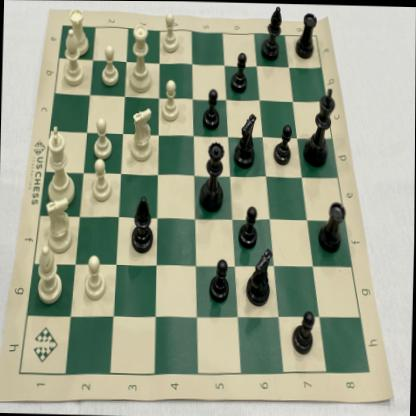black-bishop: (129, 194, 156, 257), (259, 5, 283, 64)
black-king: (303, 82, 339, 167)
black-knight: (245, 240, 275, 310), (231, 109, 258, 171)
black-pawn: (290, 308, 316, 356), (207, 255, 231, 306), (236, 200, 259, 250), (228, 48, 250, 96), (271, 123, 293, 168), (201, 85, 222, 131)
black-queen: (198, 135, 226, 214)
black-rook: (317, 197, 348, 260), (294, 8, 318, 62)
white-bishop: (34, 245, 67, 307), (59, 25, 87, 89)
white-king: (42, 121, 77, 209)
white-knight: (46, 195, 73, 255), (129, 106, 153, 163)
white-pawn: (80, 252, 108, 302), (90, 157, 115, 204), (159, 9, 181, 56), (159, 78, 181, 124), (99, 42, 121, 88), (92, 115, 114, 161)
white-queen: (125, 20, 155, 95)
white-rook: (66, 4, 91, 59)
